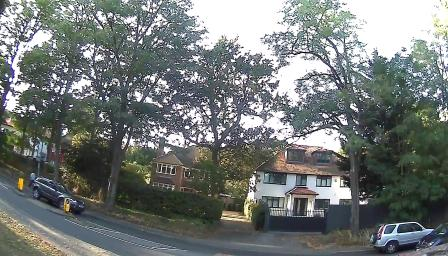Cars: (32, 173, 86, 217), (370, 223, 433, 248), (415, 226, 448, 248)
